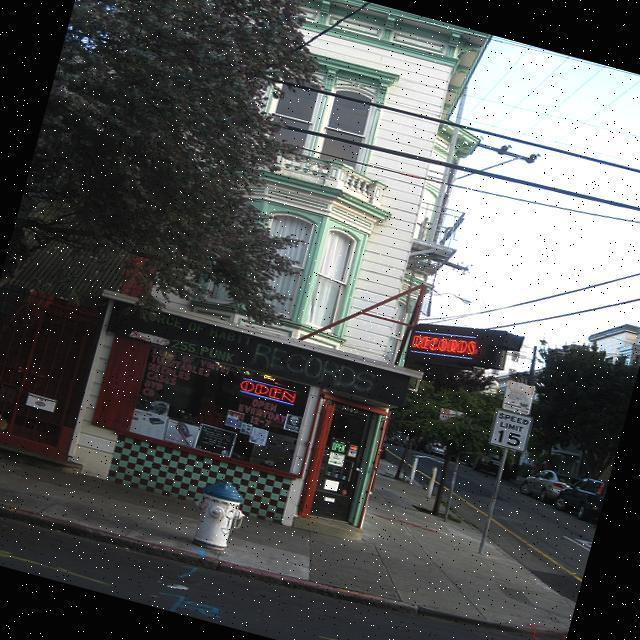fire_hydrant: (182, 472, 254, 556)
